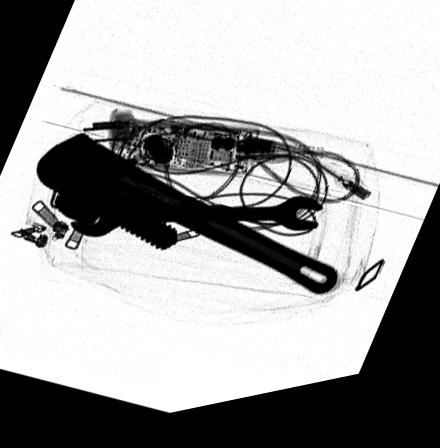Wrench: (35, 134, 339, 309), (69, 203, 328, 244)
